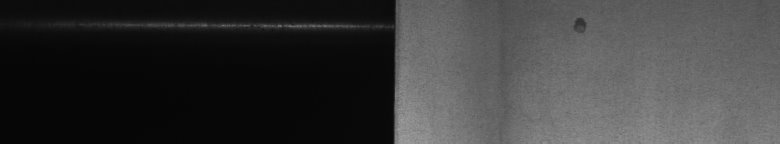fi: (568, 12, 592, 40)
